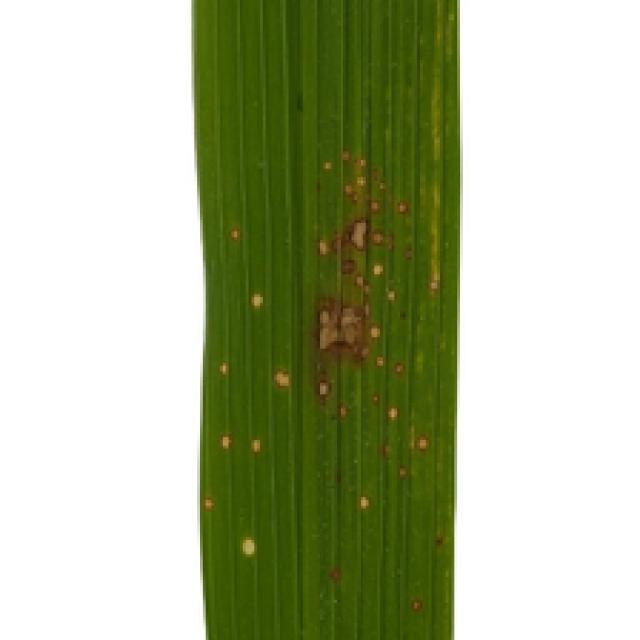Rice___Brown_Spot: (190, 0, 461, 637)
